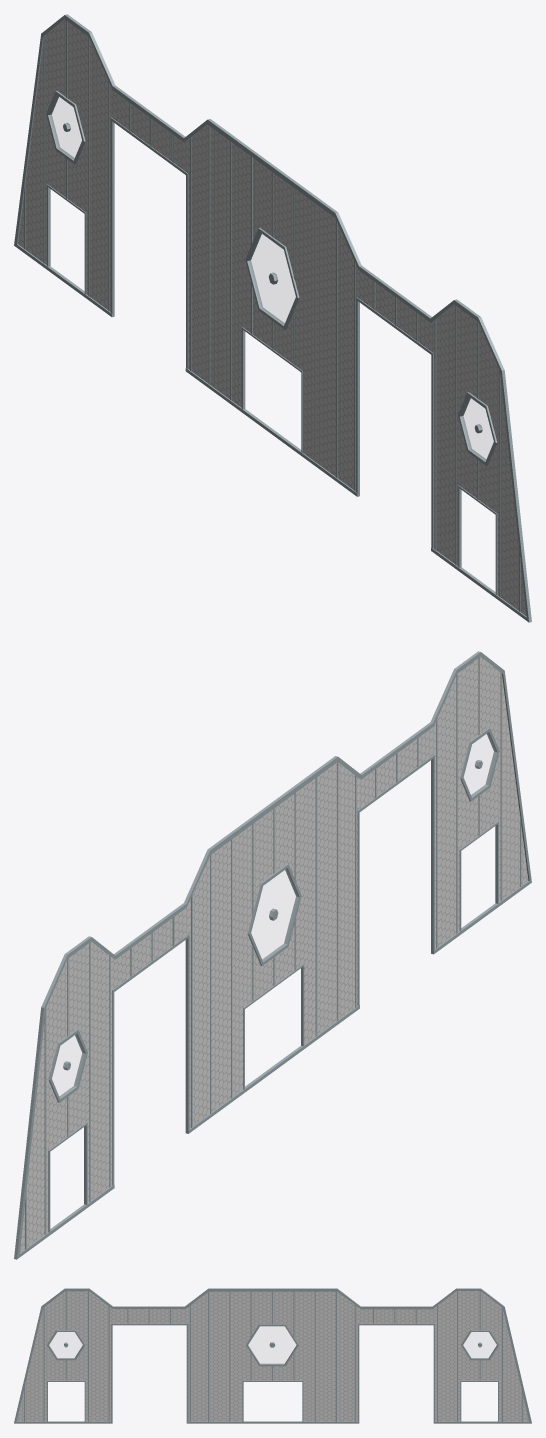
The model's file is Station01WindMetal1.FBX.
3 renders of one model, top to bottom at view 1: azimuth 30°, elevation 25°; view 2: azimuth 150°, elevation 25°; view 3: azimuth 270°, elevation 25°, orthographic. The views are drawn at different scales.
Parts seen in each view (by area): view 1: Station01WindGlass1, Station01WindMetal1, Station01Window1, Station01WindowMtl1; view 2: Station01WindGlass1, Station01WindMetal1, Station01Window1, Station01WindowMtl1; view 3: Station01WindGlass1, Station01WindMetal1, Station01Window1, Station01WindowMtl1.
Boxes of the visible parts, x1=… form: Station01WindGlass1: x1=18, y1=19, x2=526, y2=616; Station01WindMetal1: x1=14, y1=14, x2=531, y2=622; Station01Window1: x1=50, y1=97, x2=493, y2=459; Station01WindowMtl1: x1=46, y1=91, x2=497, y2=465; Station01WindGlass1: x1=20, y1=656, x2=528, y2=1252; Station01WindMetal1: x1=14, y1=651, x2=531, y2=1259; Station01Window1: x1=52, y1=733, x2=494, y2=1096; Station01WindowMtl1: x1=48, y1=728, x2=499, y2=1102; Station01WindGlass1: x1=16, y1=1291, x2=528, y2=1421; Station01WindMetal1: x1=14, y1=1288, x2=531, y2=1423; Station01Window1: x1=49, y1=1327, x2=496, y2=1363; Station01WindowMtl1: x1=47, y1=1324, x2=499, y2=1366.
Size of the model in its own units: 150 by 10116 by 35270.
